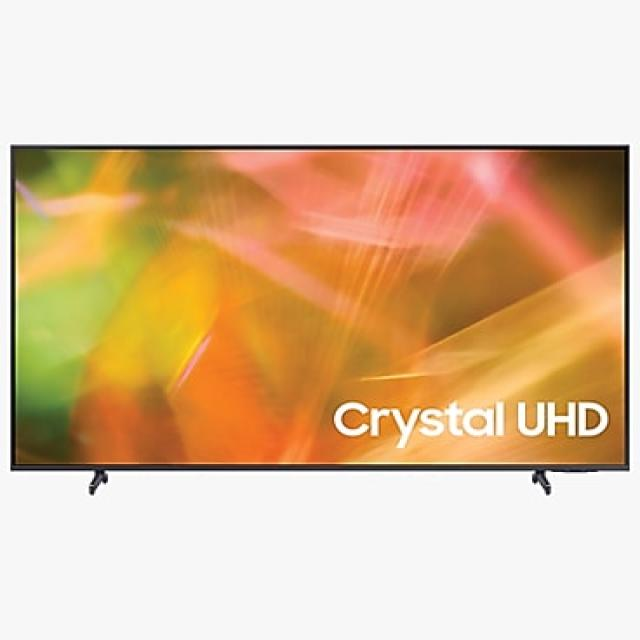electronics: (10, 147, 624, 467)
